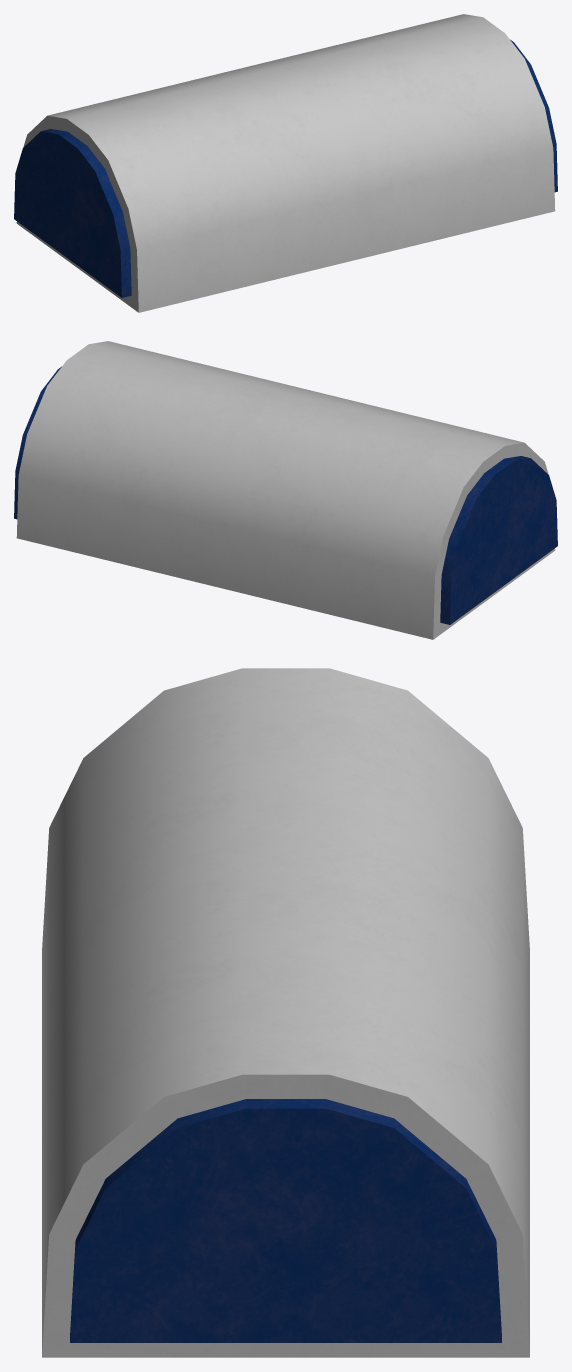
The model's file is wallbrick01.fbx.
The picture shows the model from 3 angles, top to bottom: view 1: azimuth 30°, elevation 25°; view 2: azimuth 150°, elevation 25°; view 3: azimuth 270°, elevation 25°; orthographic projection. The views are drawn at different scales.
Visible parts, largest first — view 1: wallbrick01; view 2: wallbrick01; view 3: wallbrick01.
Part boxes in pixels (box(x1,y1,x2,y2)): wallbrick01: box(14, 14, 557, 312); wallbrick01: box(14, 341, 557, 639); wallbrick01: box(42, 668, 529, 1357).
Bounding box in the file's own units: 30.95 × 9.59 × 15.
